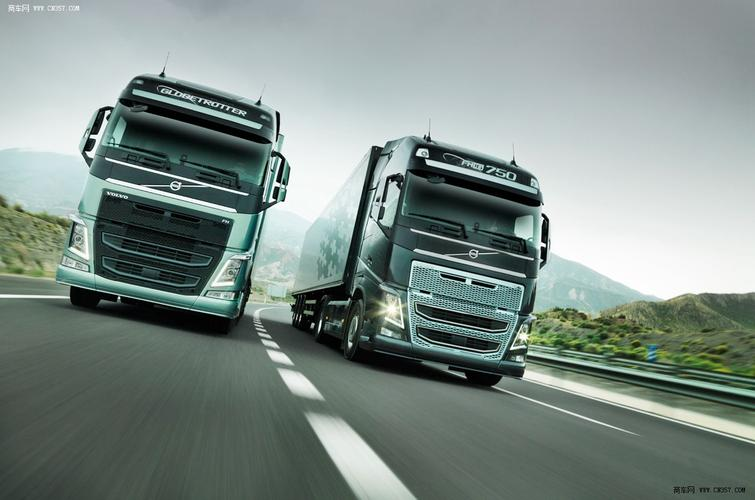卡车: (44, 55, 295, 361), (292, 119, 538, 410)
